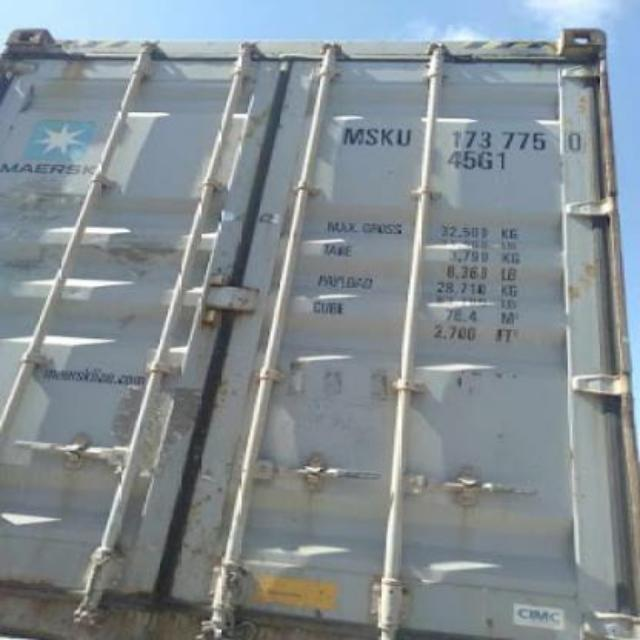0: (566, 133, 586, 153)
1: (451, 128, 464, 150)
3: (480, 128, 492, 150)
5: (532, 133, 548, 153)
7: (462, 128, 476, 150), (518, 130, 532, 152), (501, 128, 514, 150)
K: (381, 126, 394, 150)
M: (342, 125, 363, 146)
S: (366, 128, 379, 148)
U: (396, 128, 414, 148)
